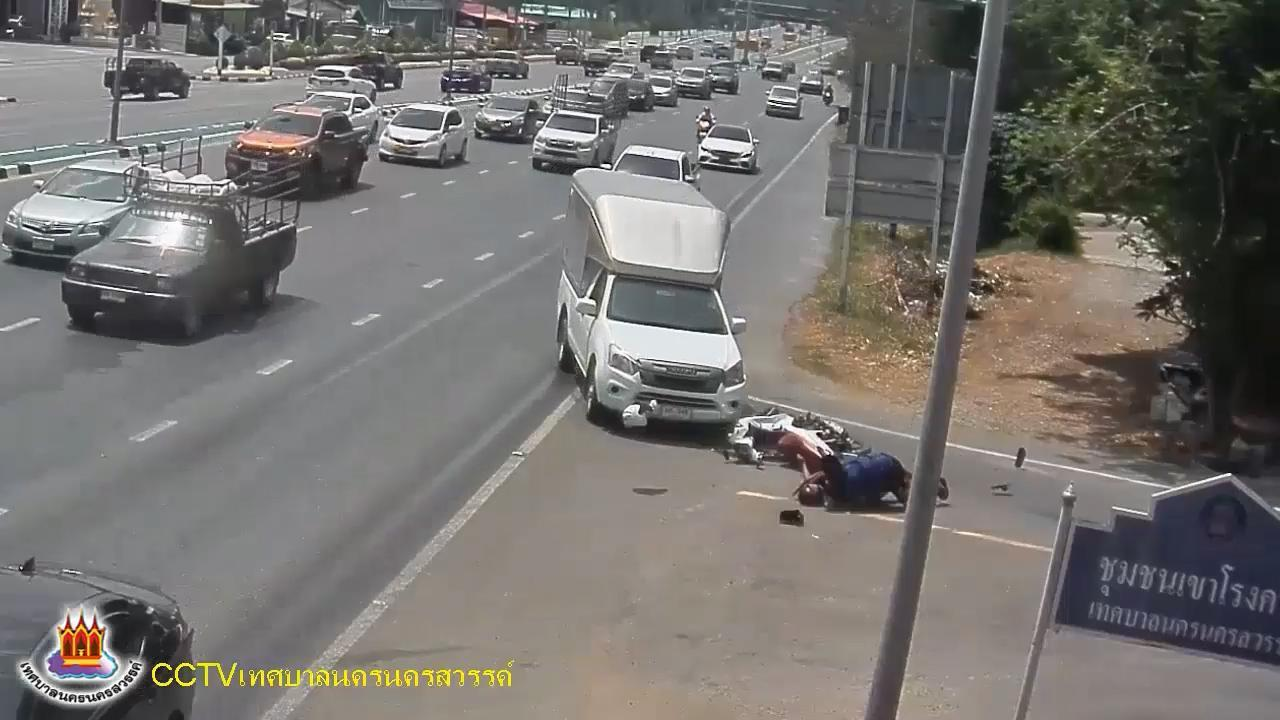accident: (795, 445, 951, 516)
